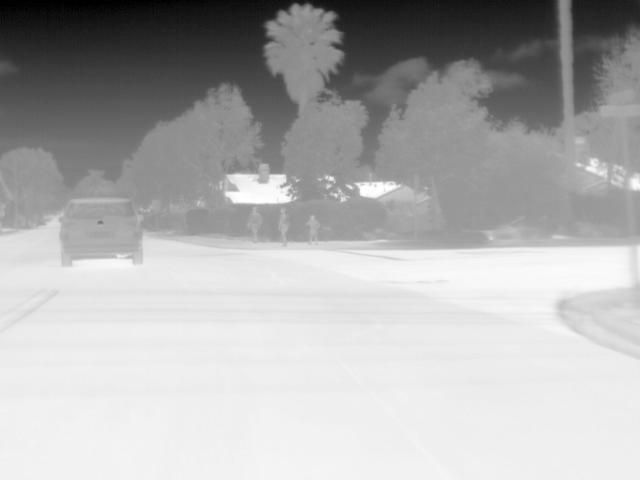car: (57, 198, 145, 267)
person: (244, 204, 263, 243), (304, 214, 322, 246), (277, 206, 290, 247)
